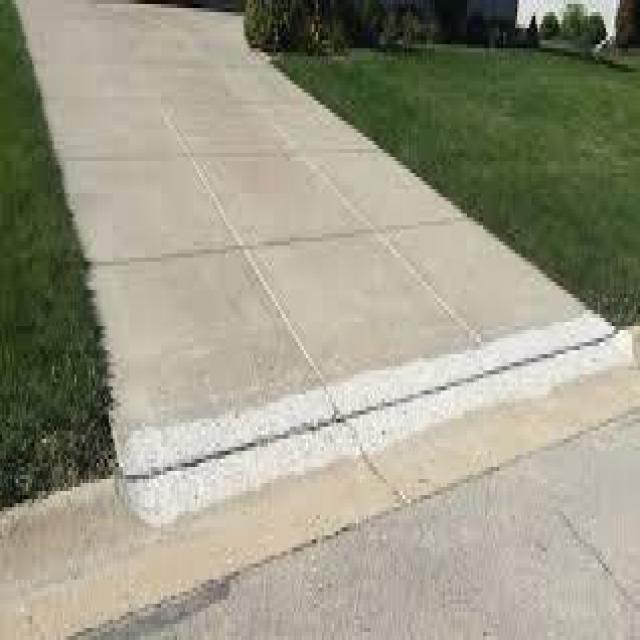curb: (1, 423, 398, 638), (352, 327, 634, 499)
